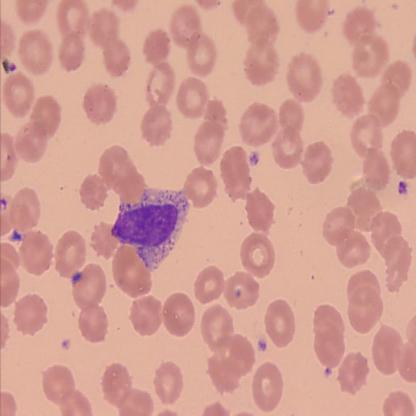Myelocyte: (112, 192, 189, 266)
